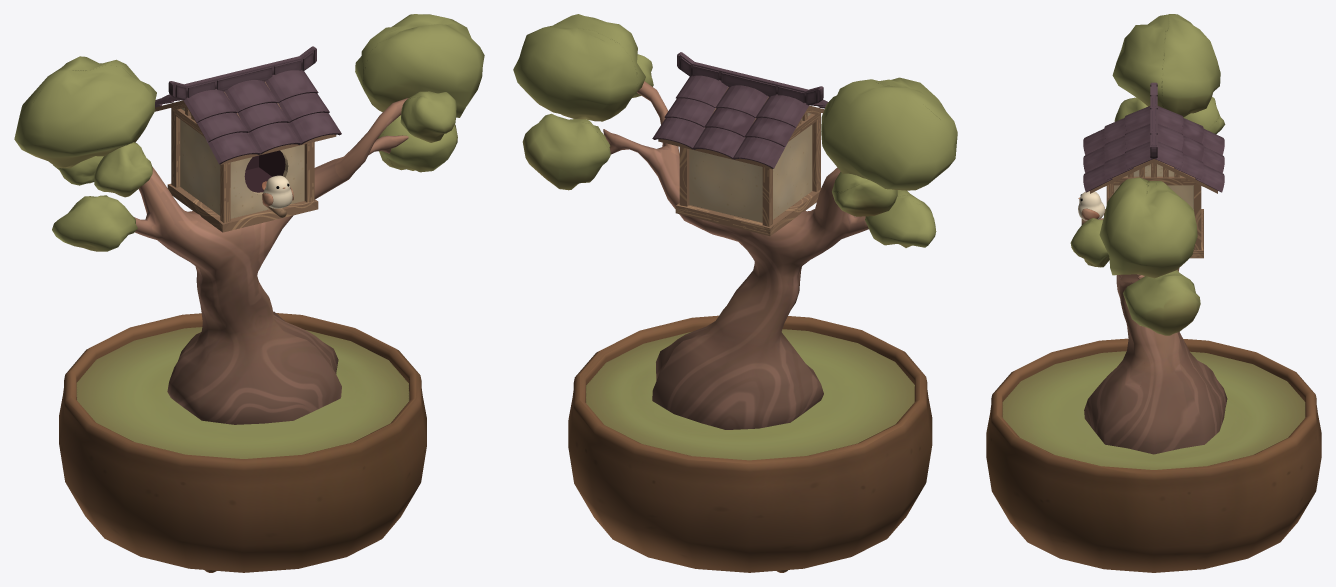
3 renders of one model, left to right at view 1: azimuth 30°, elevation 25°; view 2: azimuth 150°, elevation 25°; view 3: azimuth 270°, elevation 25°, orthographic. The views are drawn at different scales.
Visible parts, largest first — view 1: Maseta, Tronco, Pasto, Hojas_01, Techo, Hojas_05, Pared, Madera, Hojas_04, Hojas_07, Hojas_06, Hojas_03 (+4 smaller); view 2: Maseta, Tronco, Pasto, Hojas_01, Hojas_05, Techo, Pared, Hojas_07, Madera, Hojas_04, Techo_Viga, Hojas_02; view 3: Maseta, Pasto, Tronco, Hojas_01, Hojas_05, Techo, Hojas_07, Madera, Hojas_06, Hojas_02, Pajarito, Pared (+1 smaller).
Boxes of the visible parts, x1=… form: Maseta: x1=59, y1=313, x2=426, y2=572; Tronco: x1=134, y1=98, x2=408, y2=424; Pasto: x1=76, y1=327, x2=409, y2=458; Hojas_01: x1=14, y1=56, x2=156, y2=168; Techo: x1=155, y1=70, x2=341, y2=164; Hojas_05: x1=355, y1=14, x2=484, y2=117; Pared: x1=180, y1=107, x2=304, y2=218; Madera: x1=155, y1=82, x2=336, y2=232; Hojas_04: x1=52, y1=195, x2=137, y2=251; Hojas_07: x1=377, y1=115, x2=457, y2=172; Hojas_06: x1=400, y1=91, x2=456, y2=142; Hojas_03: x1=94, y1=142, x2=152, y2=197; Maseta: x1=568, y1=315, x2=932, y2=572; Tronco: x1=603, y1=81, x2=868, y2=429; Pasto: x1=586, y1=329, x2=914, y2=460; Hojas_01: x1=821, y1=77, x2=957, y2=190; Hojas_05: x1=513, y1=14, x2=645, y2=121; Techo: x1=652, y1=75, x2=828, y2=168; Pared: x1=689, y1=113, x2=812, y2=222; Hojas_07: x1=522, y1=113, x2=610, y2=190; Madera: x1=658, y1=87, x2=824, y2=236; Hojas_04: x1=865, y1=190, x2=936, y2=247; Techo_Viga: x1=677, y1=52, x2=823, y2=105; Hojas_02: x1=832, y1=171, x2=897, y2=216; Maseta: x1=986, y1=338, x2=1321, y2=572; Pasto: x1=1002, y1=351, x2=1305, y2=469; Tronco: x1=1084, y1=268, x2=1227, y2=454; Hojas_01: x1=1112, y1=14, x2=1220, y2=117; Hojas_05: x1=1099, y1=177, x2=1197, y2=278; Techo: x1=1083, y1=106, x2=1224, y2=192; Hojas_07: x1=1123, y1=270, x2=1200, y2=335; Madera: x1=1090, y1=159, x2=1217, y2=258; Hojas_06: x1=1070, y1=218, x2=1109, y2=267; Hojas_02: x1=1183, y1=96, x2=1225, y2=134; Pajarito: x1=1078, y1=191, x2=1105, y2=220; Pared: x1=1114, y1=164, x2=1193, y2=209.
Bounding box in the file's own units: 9.89 × 10.51 × 7.08.
17 materials, 17 textured.
